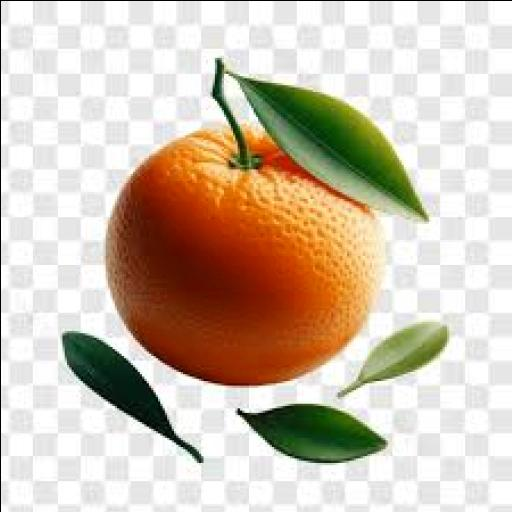orange: (105, 127, 382, 383)
